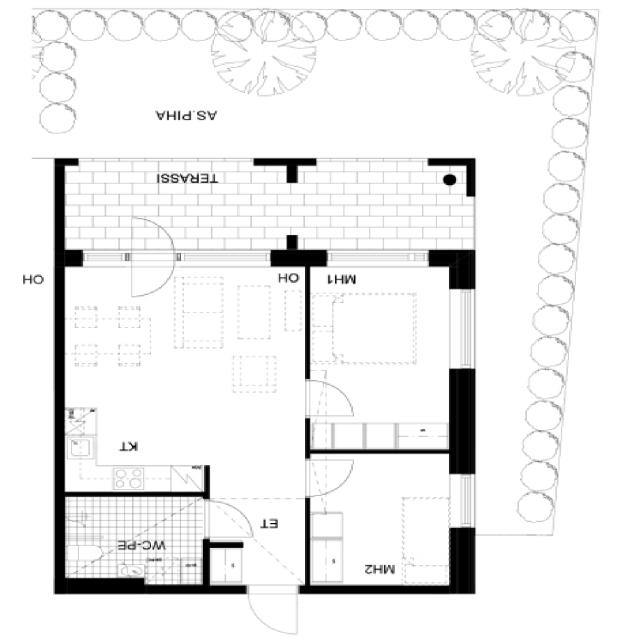door: (125, 217, 178, 299), (241, 581, 305, 639), (298, 376, 358, 424), (300, 453, 358, 499), (200, 496, 254, 543)
window: (440, 280, 483, 381), (315, 246, 438, 272), (443, 466, 480, 540), (178, 247, 276, 269), (80, 248, 130, 269)
zone: (58, 259, 299, 495), (304, 257, 459, 452), (306, 451, 458, 590), (56, 493, 208, 589)
